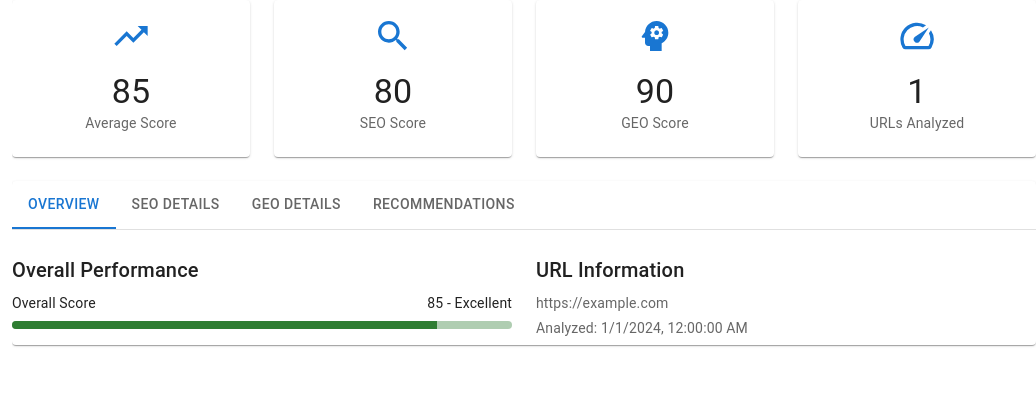
it: ResultsDashboard Component › shows technical details in SEO section
Click the tab "SEO Details": [176, 205] box [116, 181, 236, 229]
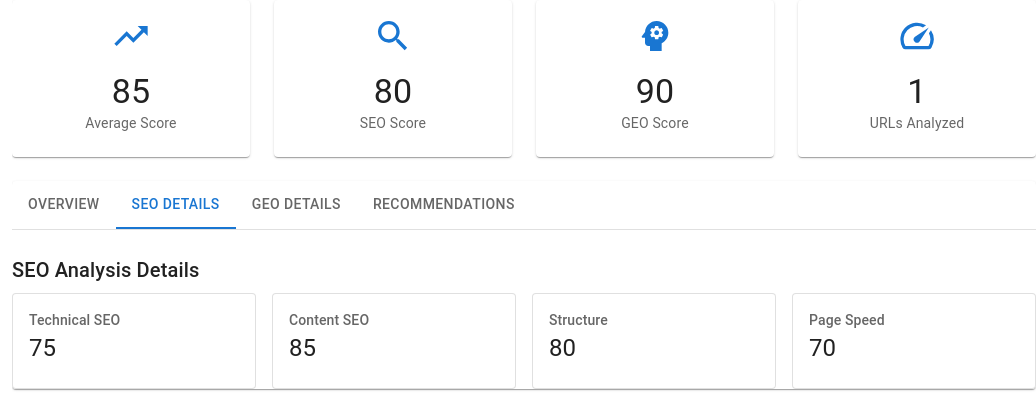
Check: the heading "SEO Analysis Details" is shown, box [12, 258, 200, 282]
Check: the heading "Technical SEO" is shown, box [29, 312, 120, 328]
Check: the heading "Content SEO" is shown, box [289, 312, 369, 328]
